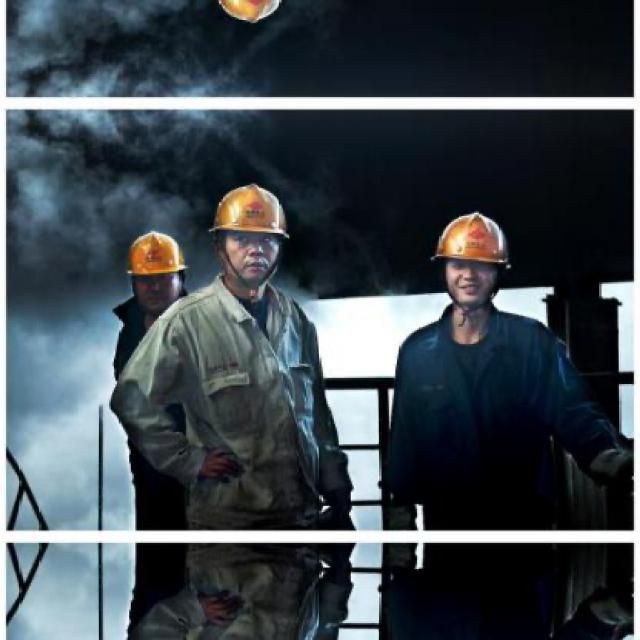helmet: (209, 175, 302, 292), (424, 202, 508, 316), (120, 223, 194, 314), (208, 0, 302, 34)
